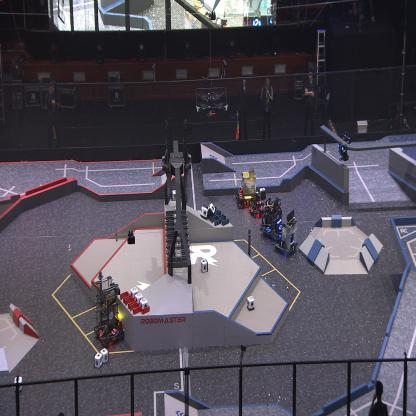car: (94, 275, 124, 347), (274, 209, 297, 258), (260, 195, 284, 240), (235, 169, 258, 208), (248, 186, 266, 217)
